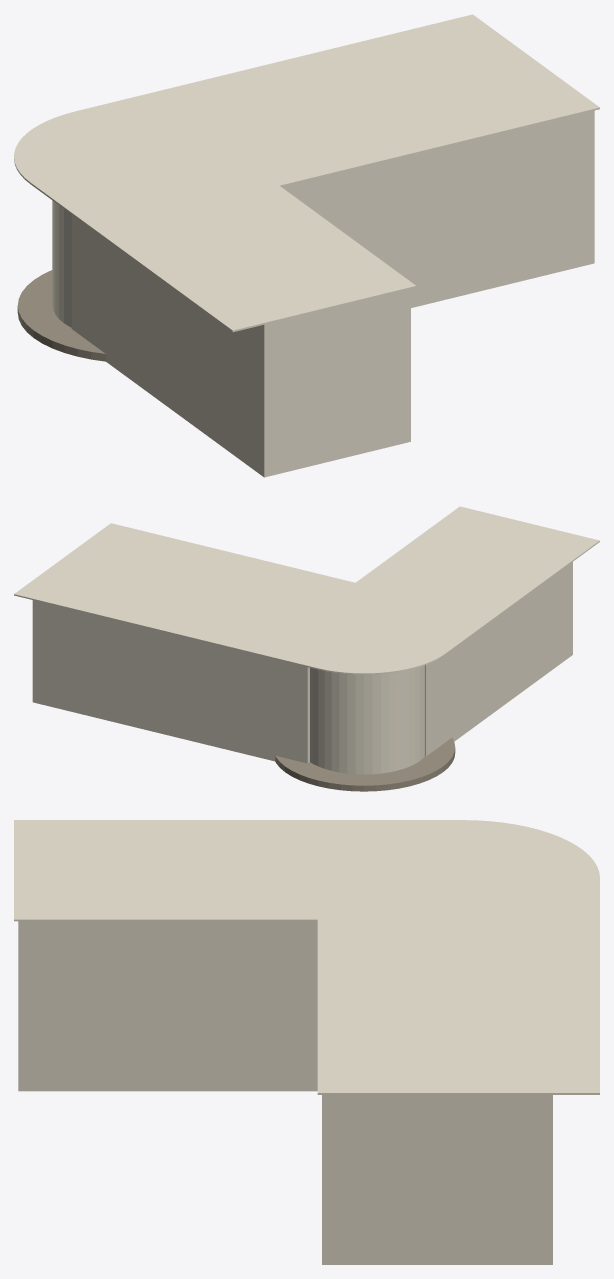
The model's file is KOL_T1_GPO__01_Shell.fbx.
The picture shows the model from 3 angles, top to bottom: view 1: azimuth 30°, elevation 25°; view 2: azimuth 150°, elevation 25°; view 3: azimuth 270°, elevation 25°; orthographic projection. The views are drawn at different scales.
Parts seen in each view (by area): view 1: KOL_T1_GPO__01_Shell__KOL_T1_HeritageWhite, KOL_T1_GPO__01_Shell__KOL_T1_HeritageStone; view 2: KOL_T1_GPO__01_Shell__KOL_T1_HeritageWhite, KOL_T1_GPO__01_Shell__KOL_T1_HeritageStone; view 3: KOL_T1_GPO__01_Shell__KOL_T1_HeritageWhite.
Boxes of the visible parts, <box> form: KOL_T1_GPO__01_Shell__KOL_T1_HeritageWhite: <box>14,14,599,477</box>; KOL_T1_GPO__01_Shell__KOL_T1_HeritageStone: <box>17,270,105,361</box>; KOL_T1_GPO__01_Shell__KOL_T1_HeritageWhite: <box>14,506,599,774</box>; KOL_T1_GPO__01_Shell__KOL_T1_HeritageStone: <box>275,737,455,791</box>; KOL_T1_GPO__01_Shell__KOL_T1_HeritageWhite: <box>14,820,599,1264</box>.
Size of the model in its own units: 151 by 44.8 by 137.
